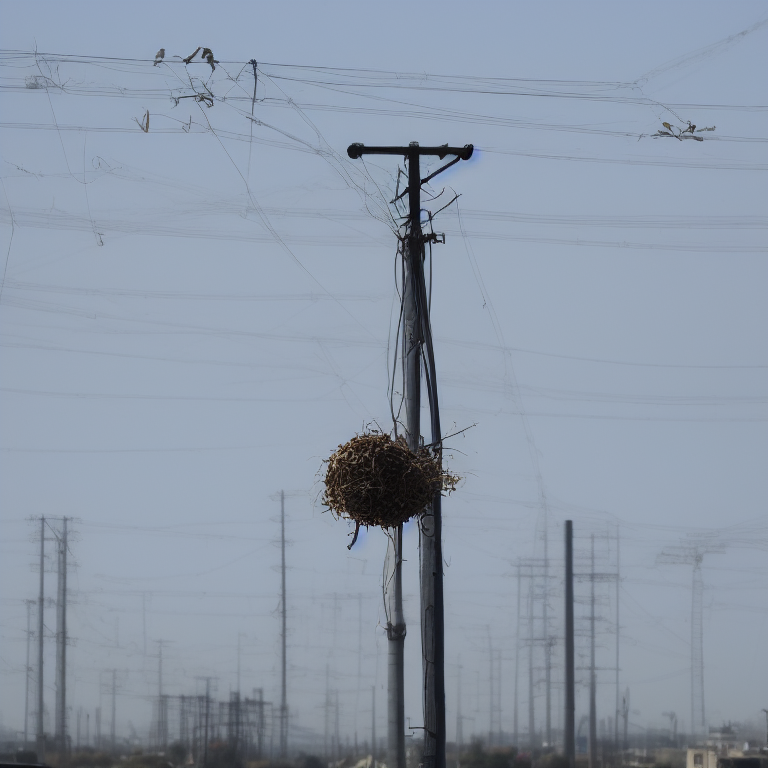nest: (326, 436, 453, 523)
